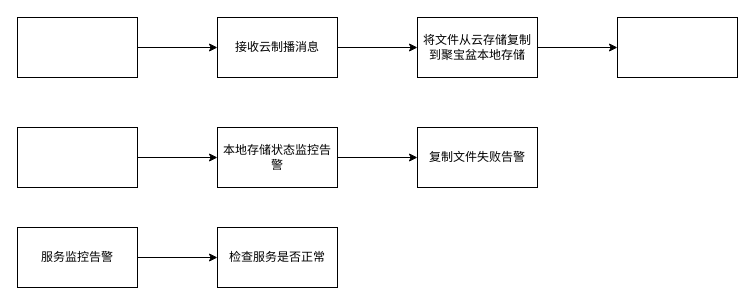
Some shapes in this 755 by 305 pixel diagram are drawn without their labels. The centre of each missing label's shape, as x and y in pixels:
"回调通知,通知进度信息" belongs at pixel 677 47.
"增量同步" belongs at pixel 77 47.
"监控告警" belongs at pixel 77 157.
